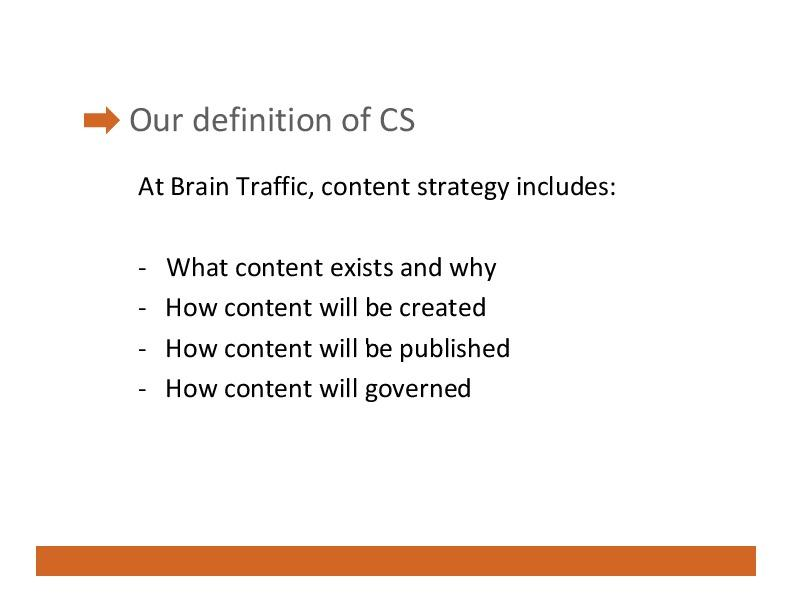paragraph: (131, 166, 656, 423)
title: (126, 96, 427, 144)
